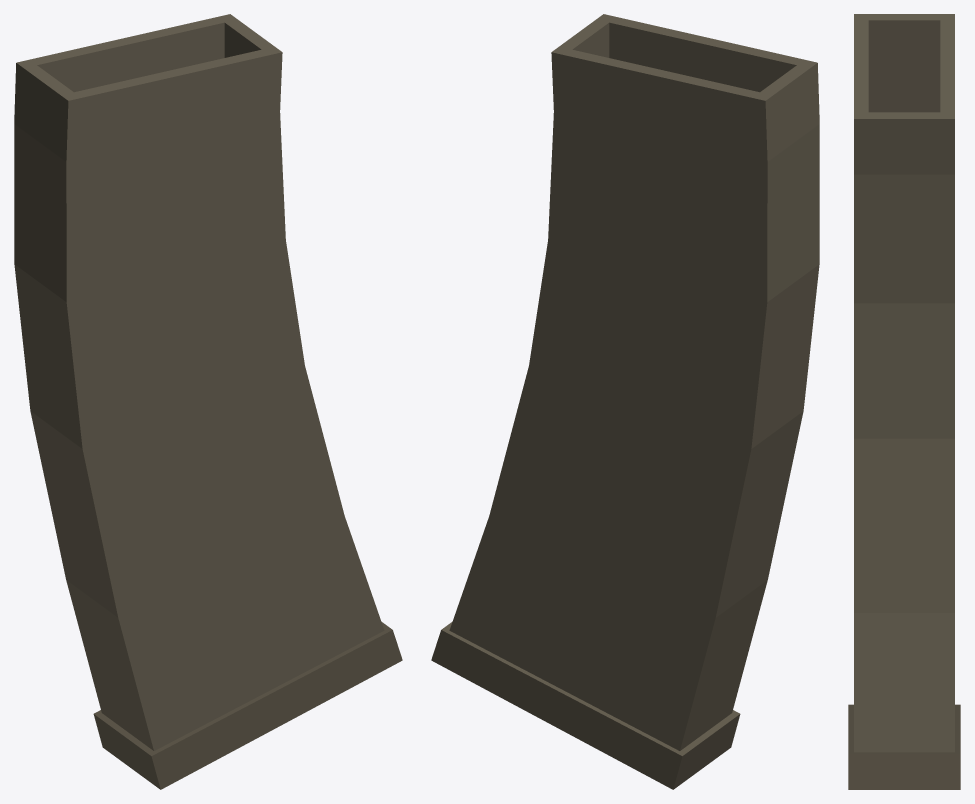
Rendered from AssaultRifle2_01_2.fbx.
The picture shows the model from 3 angles, left to right: view 1: azimuth 30°, elevation 25°; view 2: azimuth 150°, elevation 25°; view 3: azimuth 270°, elevation 25°; orthographic projection. The views are drawn at different scales.
Visible parts, largest first — view 1: AssaultRifle2_01_2; view 2: AssaultRifle2_01_2; view 3: AssaultRifle2_01_2.
Part boxes in pixels (x1,y1,x2,y2): AssaultRifle2_01_2: [14, 14, 402, 789]; AssaultRifle2_01_2: [431, 14, 819, 789]; AssaultRifle2_01_2: [848, 14, 960, 789].
Size of the model in its own units: 0.1132 by 0.2299 by 0.0341.
